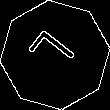L_SE: (26, 28, 84, 82)
